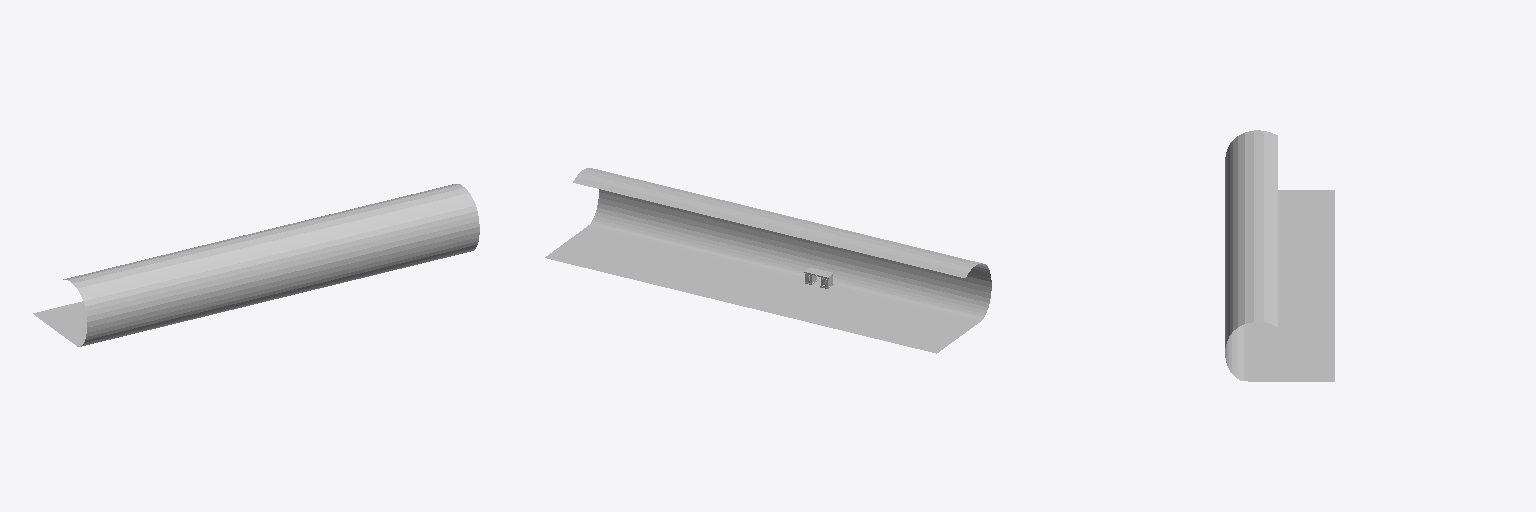
The model's file is selva.obj.
3 views of the same model, side by side, from view 1: azimuth 30°, elevation 25°; view 2: azimuth 150°, elevation 25°; view 3: azimuth 270°, elevation 25° (orthographic).
Visible parts, largest first — view 1: Fob; view 2: Fob; view 3: Fob.
Boxes of the visible parts, x1=… form: Fob: x1=33, y1=184, x2=479, y2=346; Fob: x1=545, y1=168, x2=991, y2=353; Fob: x1=1225, y1=130, x2=1334, y2=381.
Size of the model in its own units: 26413 by 3825 by 6392.